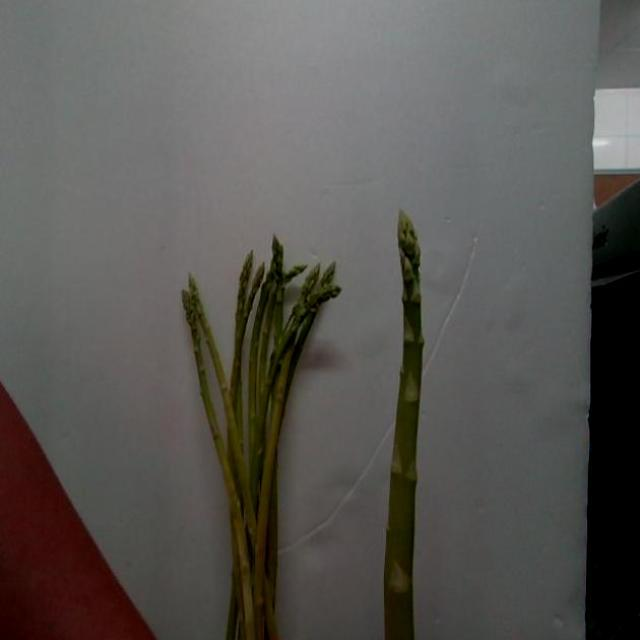aspargus: (384, 211, 424, 640)
